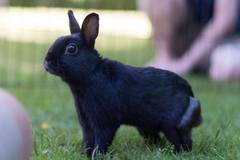bunny: (33, 7, 210, 160)
